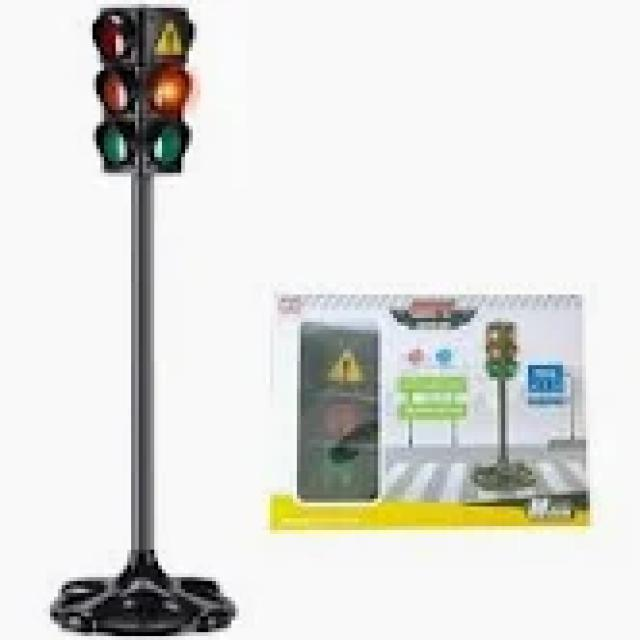suv: (89, 4, 192, 173)
